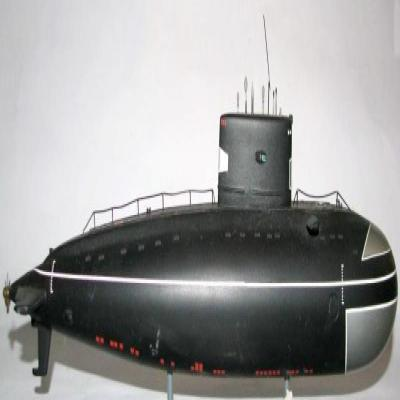other: (10, 114, 400, 400)
